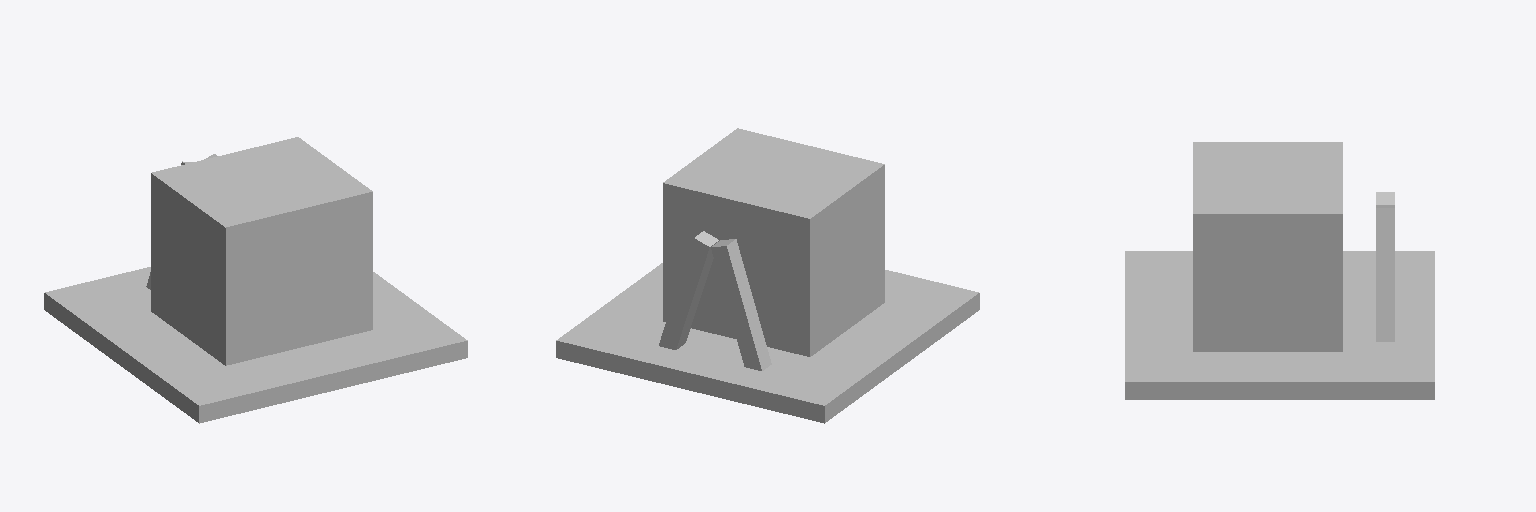
File: spinning_wheel.obj
3 views of the same model, side by side, from view 1: azimuth 30°, elevation 25°; view 2: azimuth 150°, elevation 25°; view 3: azimuth 270°, elevation 25° (orthographic).
Parts seen in each view (by area): view 1: base; view 2: base; view 3: base.
Boxes of the visible parts, x1=… form: base: x1=44, y1=137, x2=467, y2=423; base: x1=556, y1=128, x2=979, y2=423; base: x1=1125, y1=142, x2=1434, y2=399.
Bounding box in the file's own units: 1 × 0.5559 × 1.